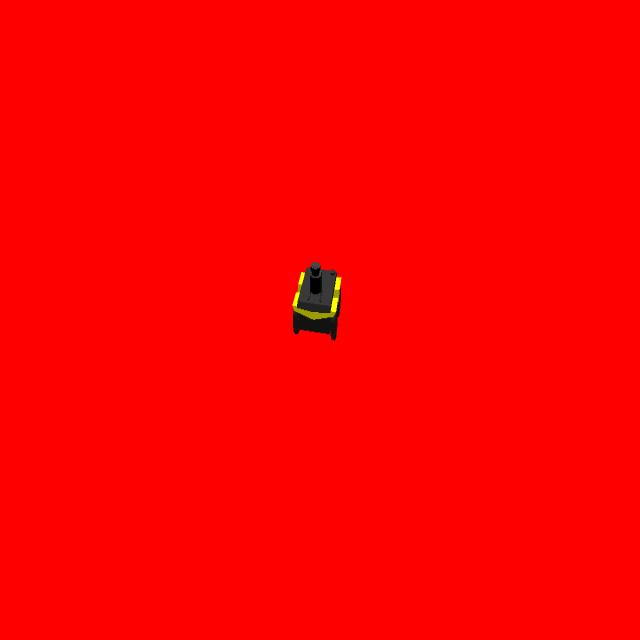jackal: (292, 258, 342, 341)
